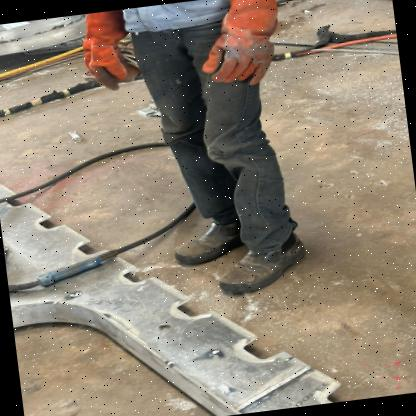bota: (206, 226, 322, 297), (151, 210, 255, 271)
